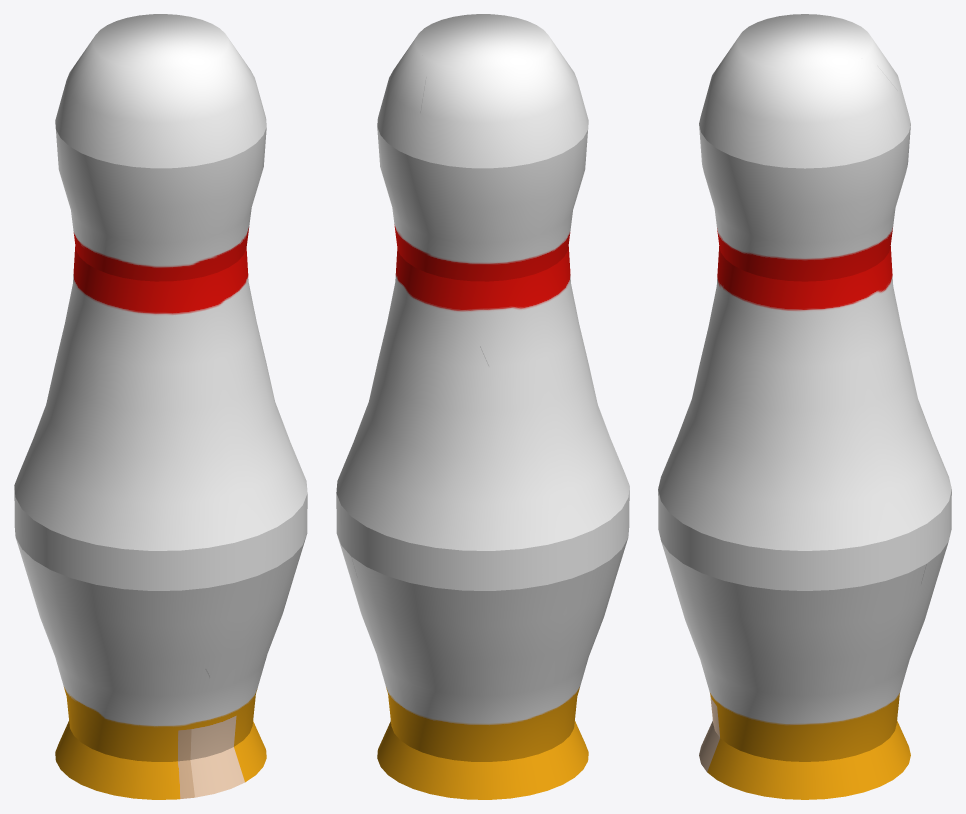
Rendered from bowlingPin.obj.
3 renders of one model, left to right at view 1: azimuth 30°, elevation 25°; view 2: azimuth 150°, elevation 25°; view 3: azimuth 270°, elevation 25°, orthographic.
Parts seen in each view (by area): view 1: Cylinder; view 2: Cylinder; view 3: Cylinder.
Part boxes in pixels (box(x1,y1,x2,y2)): Cylinder: box(14, 14, 307, 799); Cylinder: box(336, 14, 629, 799); Cylinder: box(658, 14, 951, 799).
Bounding box in the file's own units: 2.77 × 7.42 × 2.77.
1 material, 1 textured.
